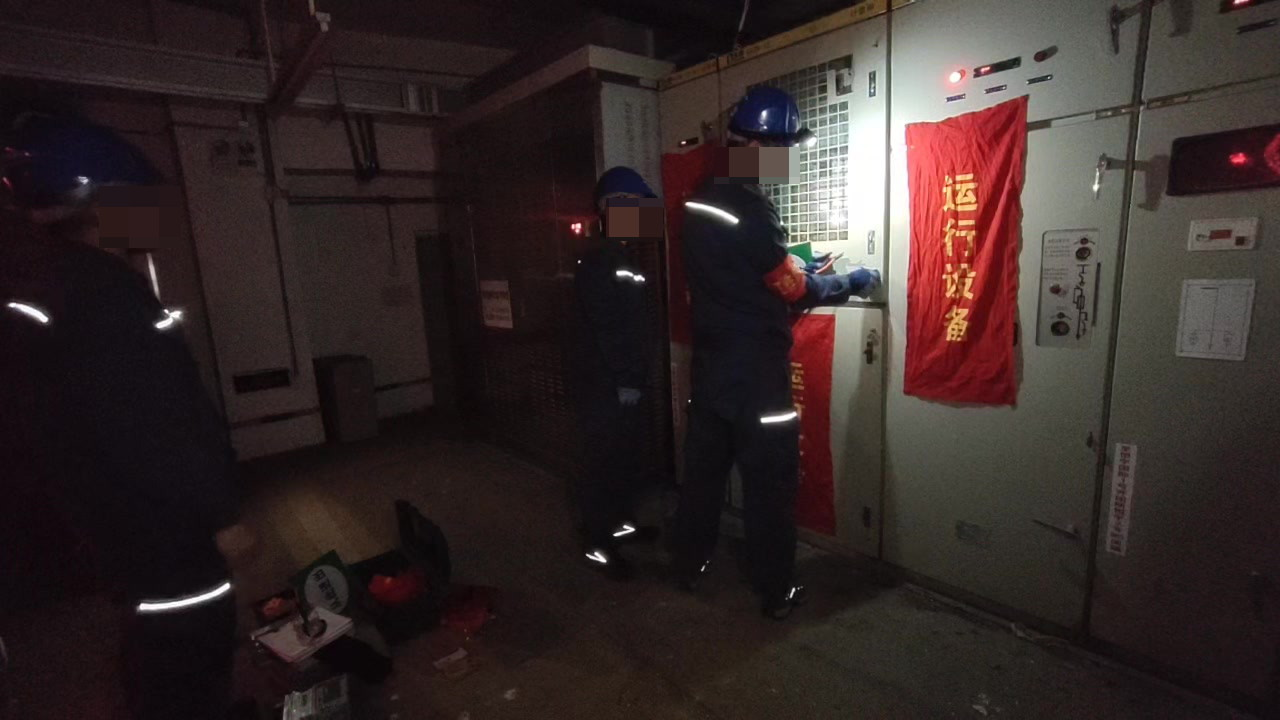badge: (763, 255, 803, 296)
downsuit: (11, 539, 254, 717), (671, 420, 799, 584)
glove: (840, 265, 880, 295)
halt: (11, 112, 165, 247), (725, 85, 800, 183), (596, 167, 659, 241)
inear: (746, 138, 774, 174), (604, 197, 626, 230)
person: (1, 107, 258, 720), (677, 86, 818, 620), (557, 167, 677, 567)
upsuit: (1, 239, 243, 523), (684, 168, 805, 405), (570, 241, 671, 398)
